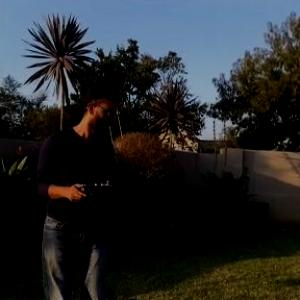follow: (31, 74, 124, 299)
